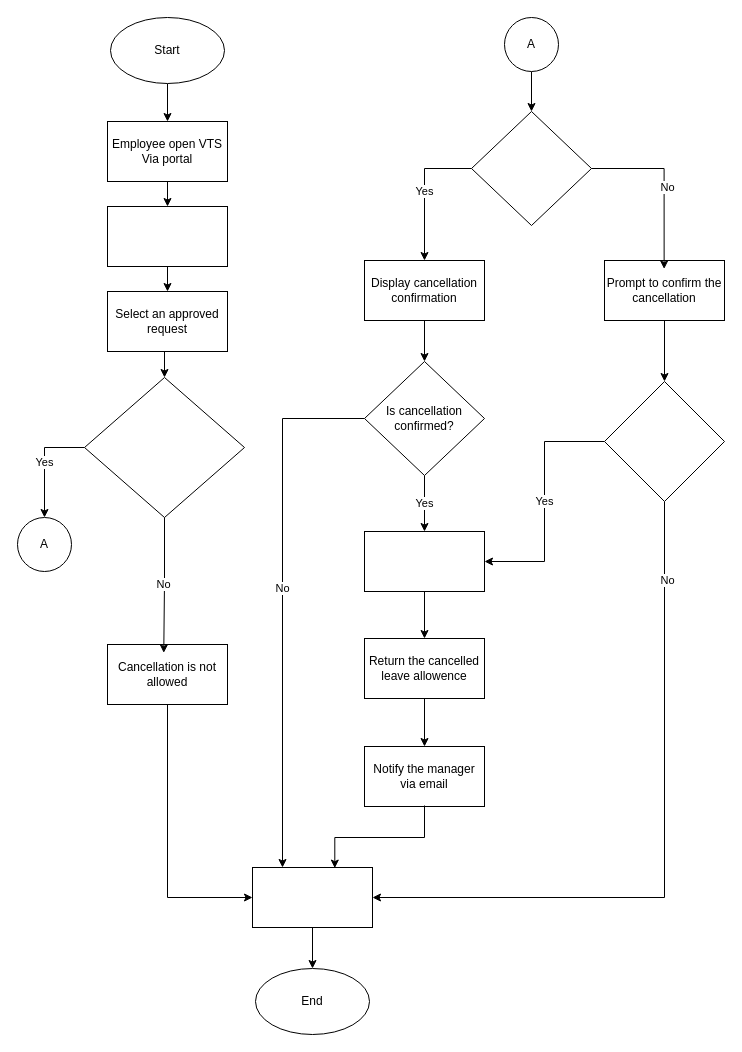
This 742x1052 diagram has some shape labels left out. The box of each missing label's shape, as (x1, y1, x2, y2) in pixels:
Change Request status to cancelled: (364, 530, 484, 592)
Display Balance summary: (106, 206, 228, 266)
Is confirmed and explanation provided?: (604, 380, 724, 502)
Is future request?: (470, 110, 592, 226)
Is Request in future or the recent past (pre vious 5 business days)?: (84, 376, 244, 518)
Refresh and return to the VTS home page: (252, 866, 372, 928)
